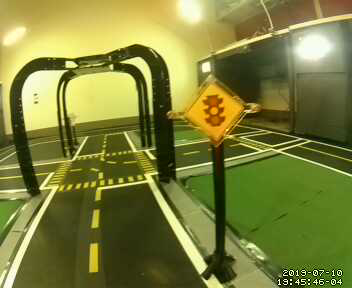Traffic light sign: (188, 82, 246, 141)
